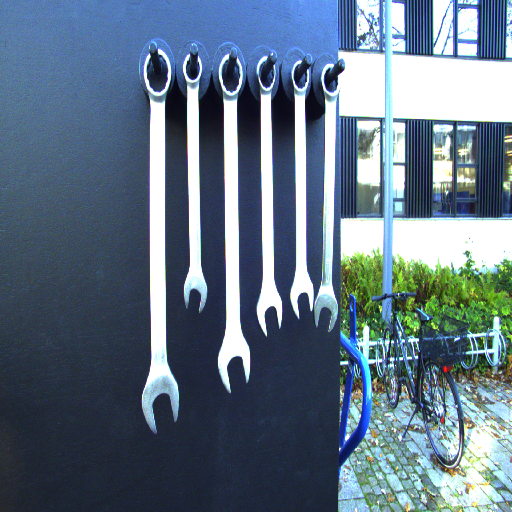bottom: (137, 379, 187, 435), (216, 345, 256, 393), (253, 295, 288, 337), (312, 294, 343, 333), (181, 278, 211, 315), (289, 284, 315, 322)
top: (140, 47, 175, 99), (215, 52, 244, 97), (254, 53, 279, 95), (319, 61, 343, 101), (288, 57, 313, 95), (180, 49, 204, 86)
